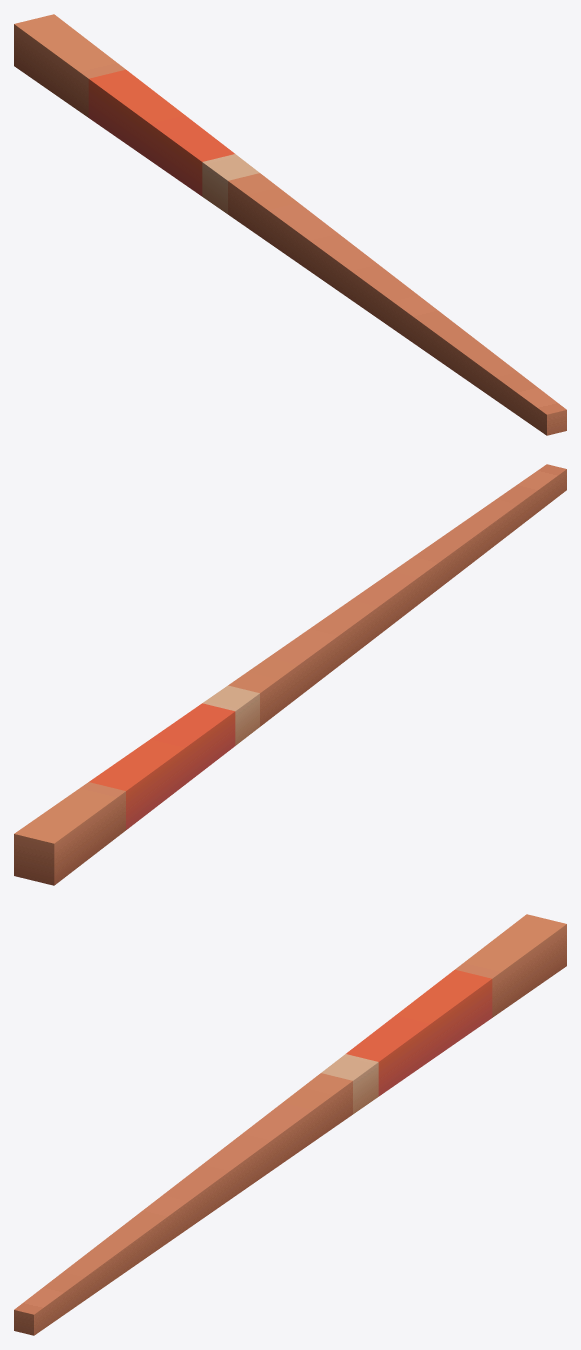
The model's file is chopstic-decorative.glb.
3 renders of one model, top to bottom at view 1: azimuth 30°, elevation 25°; view 2: azimuth 150°, elevation 25°; view 3: azimuth 330°, elevation 25°, orthographic.
Visible parts, largest first — view 1: chopstic-decorative; view 2: chopstic-decorative; view 3: chopstic-decorative.
Part boxes in pixels (bbox=[...]): chopstic-decorative: bbox=[14, 14, 566, 435]; chopstic-decorative: bbox=[14, 464, 566, 885]; chopstic-decorative: bbox=[14, 914, 566, 1335].
Bounding box in the file's own units: 0.02 × 0.02 × 0.45.
1 material, 1 textured.
